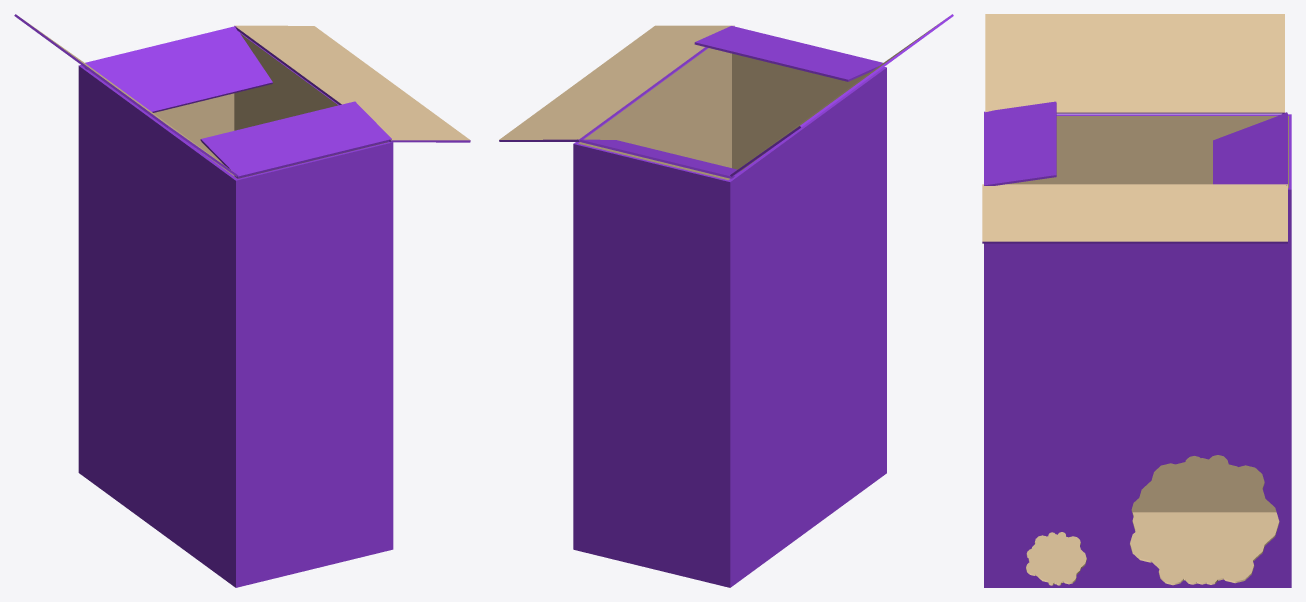
Rendered from SM_CerealBox.fbx.
3 renders of one model, left to right at view 1: azimuth 30°, elevation 25°; view 2: azimuth 150°, elevation 25°; view 3: azimuth 270°, elevation 25°, orthographic. The views are drawn at different scales.
Parts seen in each view (by area): view 1: Cube.017, Cube.019, Cube.021, Cube.020, Cube.018; view 2: Cube.017, Cube.019, Cube.020, Cube.021, Cube.018; view 3: Cube.017, Cube.018, Cube.019, Cube.020, Cube.021.
Part boxes in pixels (x1=…): Cube.017: x1=78, y1=33, x2=393, y2=587; Cube.019: x1=234, y1=25, x2=470, y2=142; Cube.021: x1=85, y1=26, x2=272, y2=112; Cube.020: x1=200, y1=101, x2=391, y2=178; Cube.018: x1=14, y1=14, x2=238, y2=176; Cube.017: x1=573, y1=48, x2=886, y2=587; Cube.019: x1=499, y1=25, x2=734, y2=141; Cube.020: x1=694, y1=26, x2=882, y2=81; Cube.021: x1=577, y1=139, x2=741, y2=178; Cube.018: x1=730, y1=14, x2=953, y2=176; Cube.017: x1=984, y1=114, x2=1291, y2=587; Cube.018: x1=985, y1=14, x2=1284, y2=113; Cube.019: x1=982, y1=184, x2=1287, y2=243; Cube.020: x1=984, y1=101, x2=1056, y2=185; Cube.021: x1=1213, y1=112, x2=1287, y2=185.
Size of the model in its own units: 1474 by 2229 by 1339.
